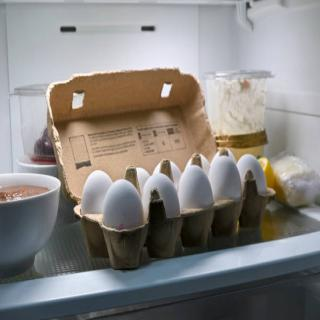Egg: (140, 171, 182, 227), (171, 162, 213, 218), (103, 179, 144, 235), (210, 153, 243, 211), (236, 147, 269, 205), (81, 166, 109, 213)
